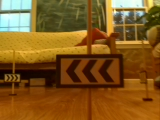left: (57, 55, 123, 86)
right: (4, 74, 21, 82)
